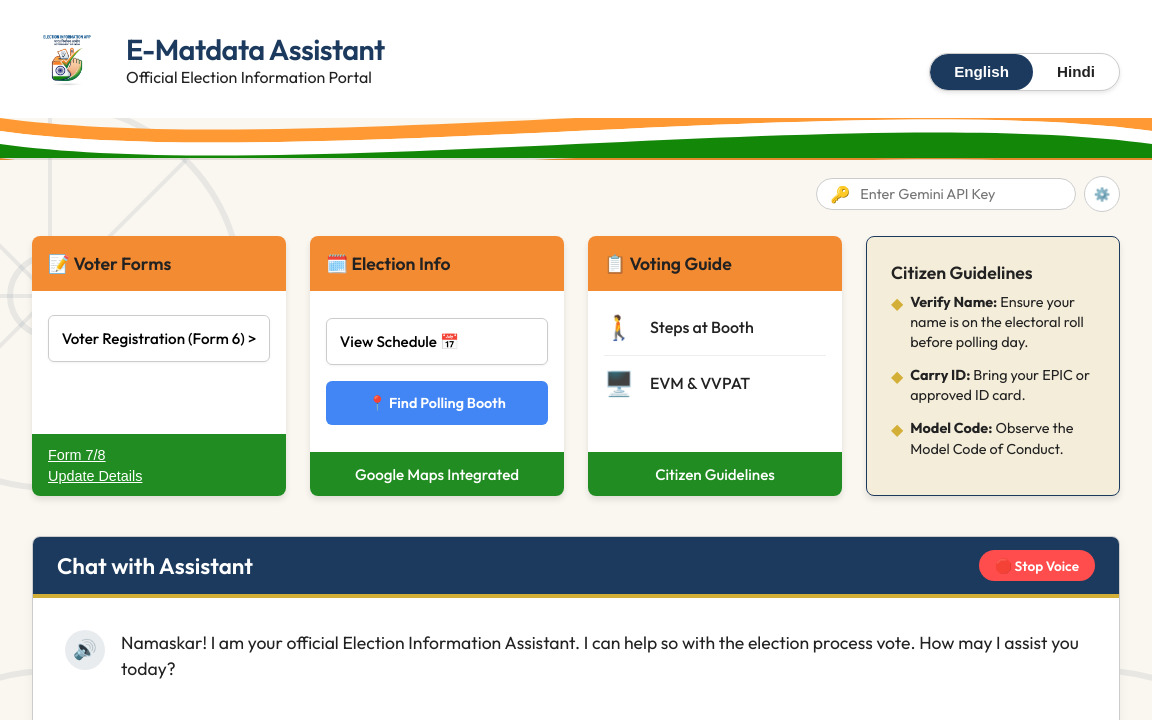
App Component › toggles language from English to Hindi
The width and height of the screenshot is (1152, 720).
Expected: the text "Official Election Information Portal" is shown, [126,67,385,87]
Note: Click Hindi button
Click the button "Hindi" at (1076, 72), box [1033,54,1119,90]
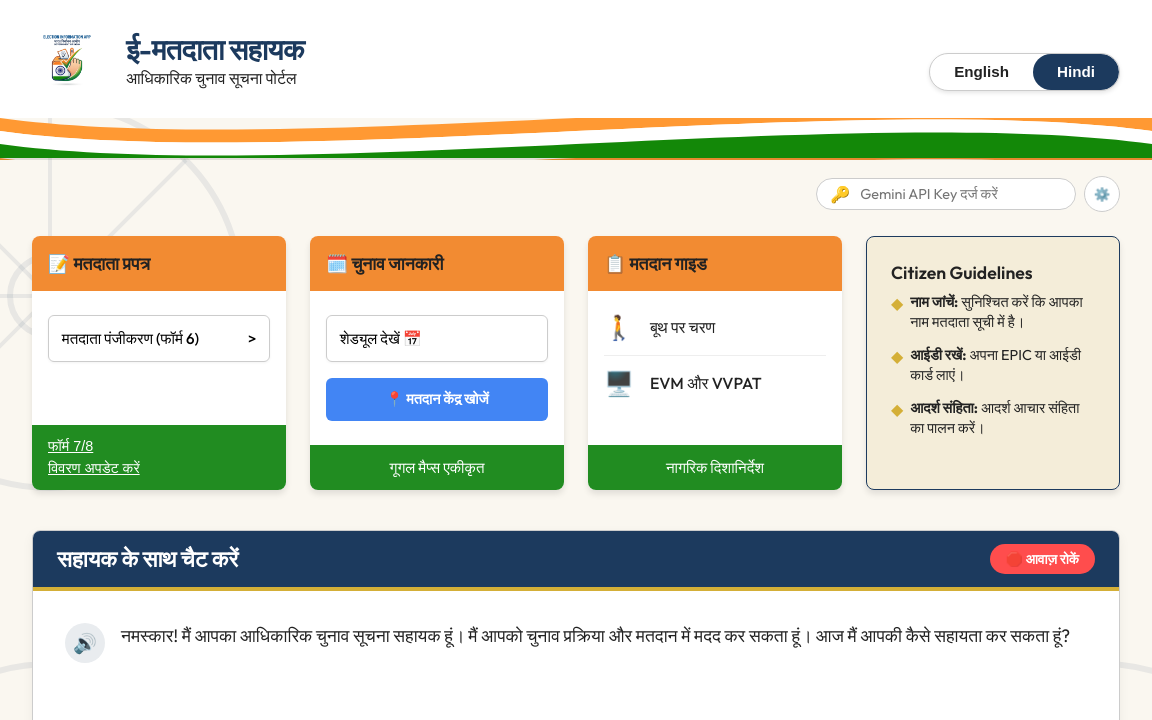
Now the text "आधिकारिक चुनाव सूचना पोर्टल" is shown, box [126,68,304,88]
Now the heading "ई-मतदाता सहायक" is shown, box [126,30,304,68]
